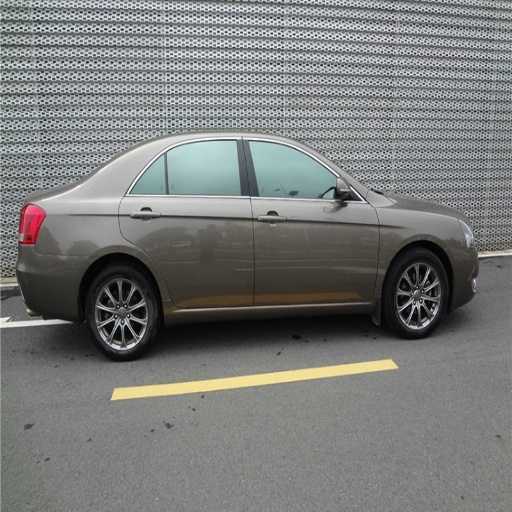back_right_door: (122, 136, 253, 309)
